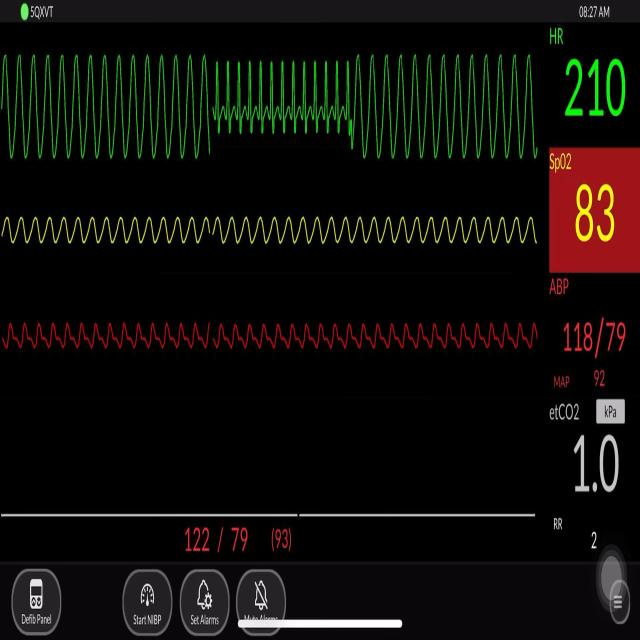danger: (2, 36, 220, 173), (364, 33, 538, 180), (227, 43, 355, 144)
